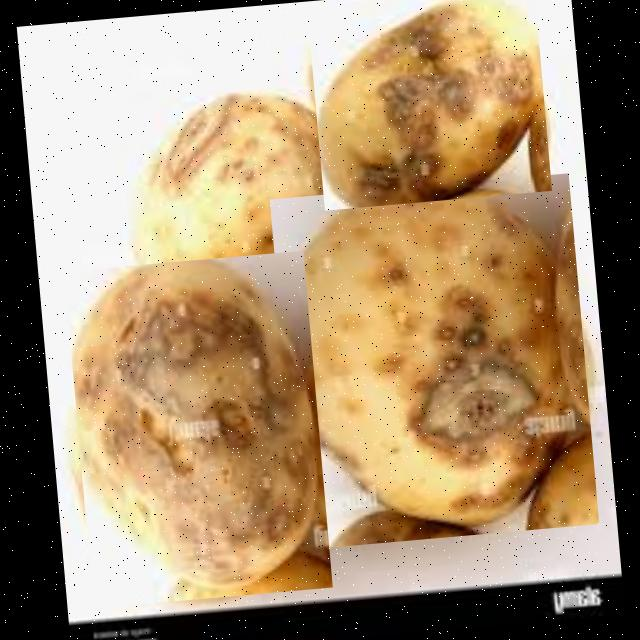Diseased-fungal potato: (268, 172, 598, 550), (62, 249, 332, 607), (119, 80, 358, 298), (305, 0, 550, 209)
